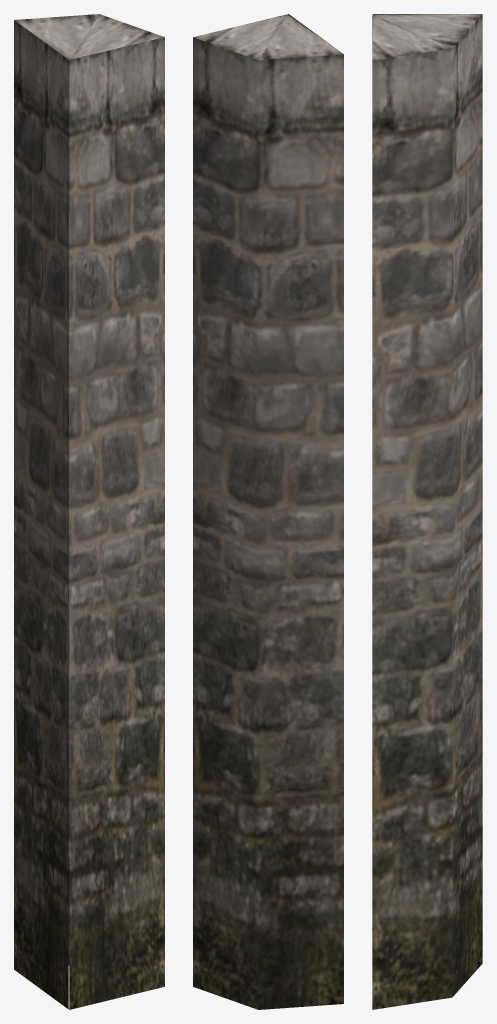
File: TallWallStone_Corner.fbx
The picture shows the model from 3 angles, left to right: view 1: azimuth 30°, elevation 25°; view 2: azimuth 210°, elevation 25°; view 3: azimuth 270°, elevation 25°; orthographic projection.
Parts seen in each view (by area): view 1: lod_high; view 2: lod_high; view 3: lod_high.
Part boxes in pixels (bbox=[...]): lod_high: bbox=[14, 14, 164, 1009]; lod_high: bbox=[193, 14, 343, 1009]; lod_high: bbox=[372, 14, 482, 1009].
Bounding box in the file's own units: 200 × 1900 × 201.
1 material, 1 textured.
